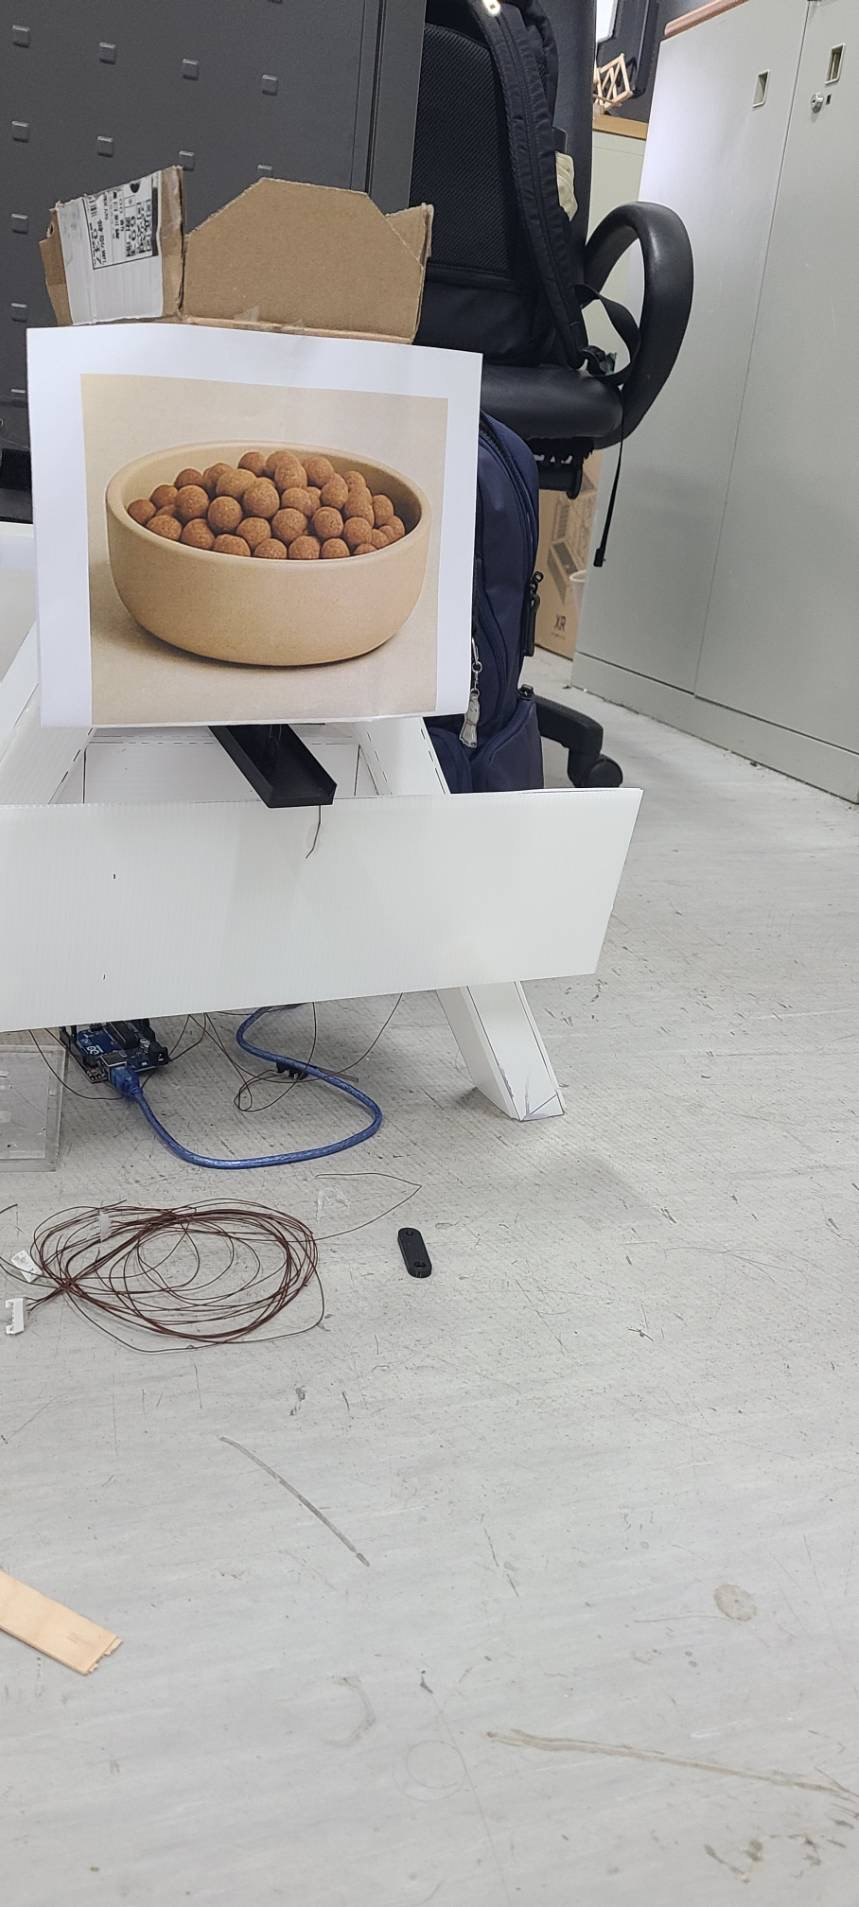machine: (112, 440, 430, 671)
